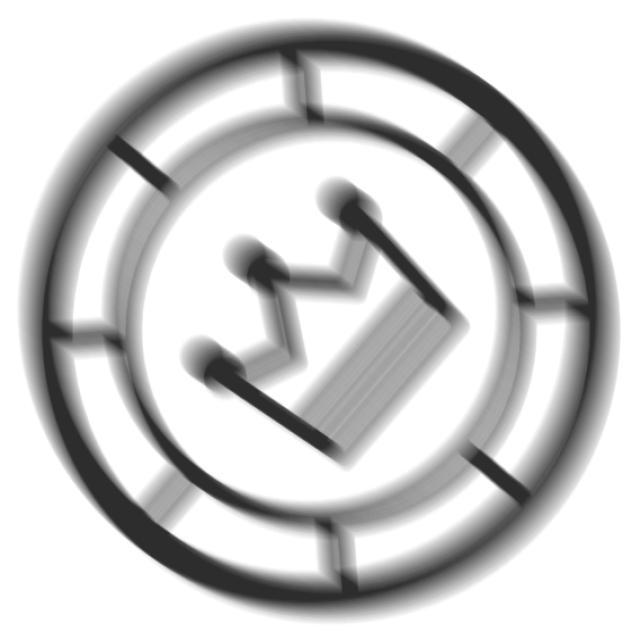coin: (17, 16, 626, 631)
